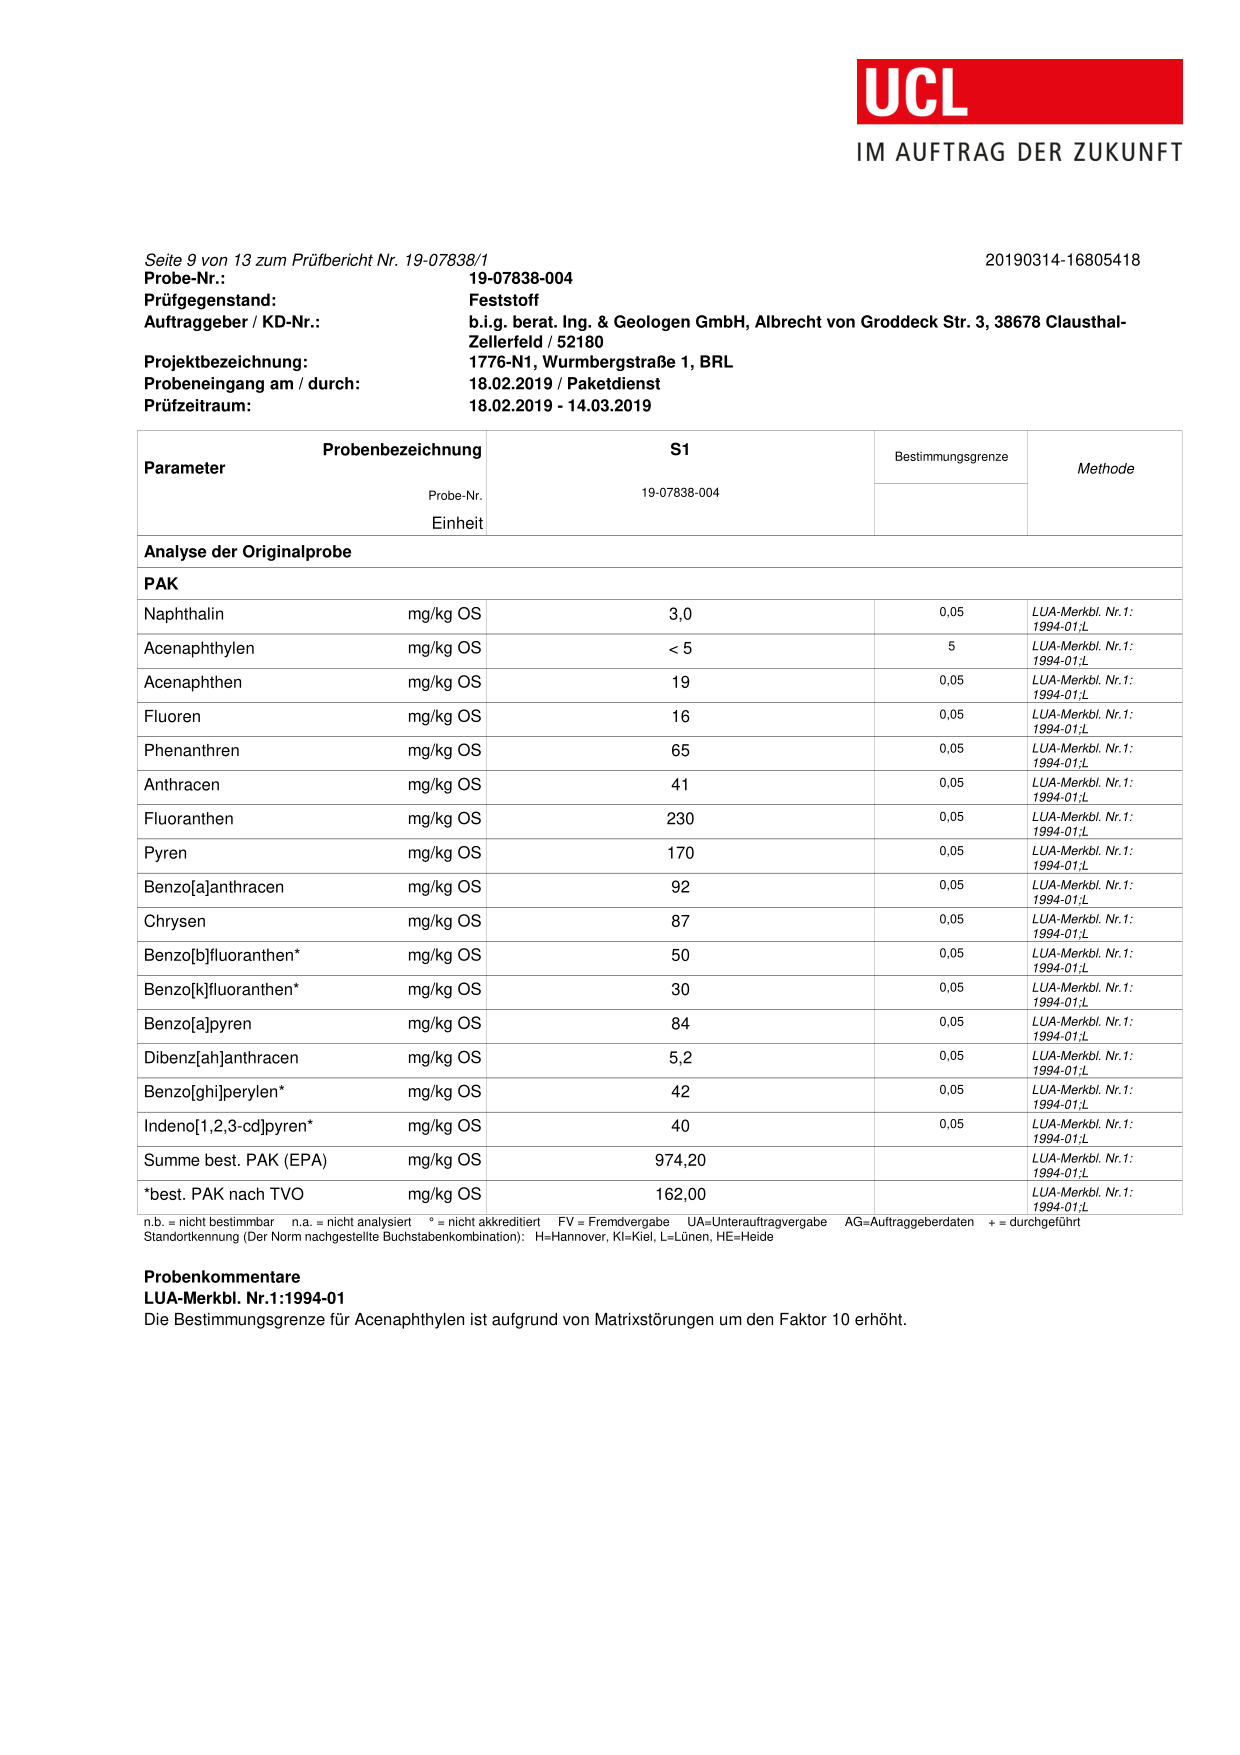table: (127, 598, 1189, 1218)
